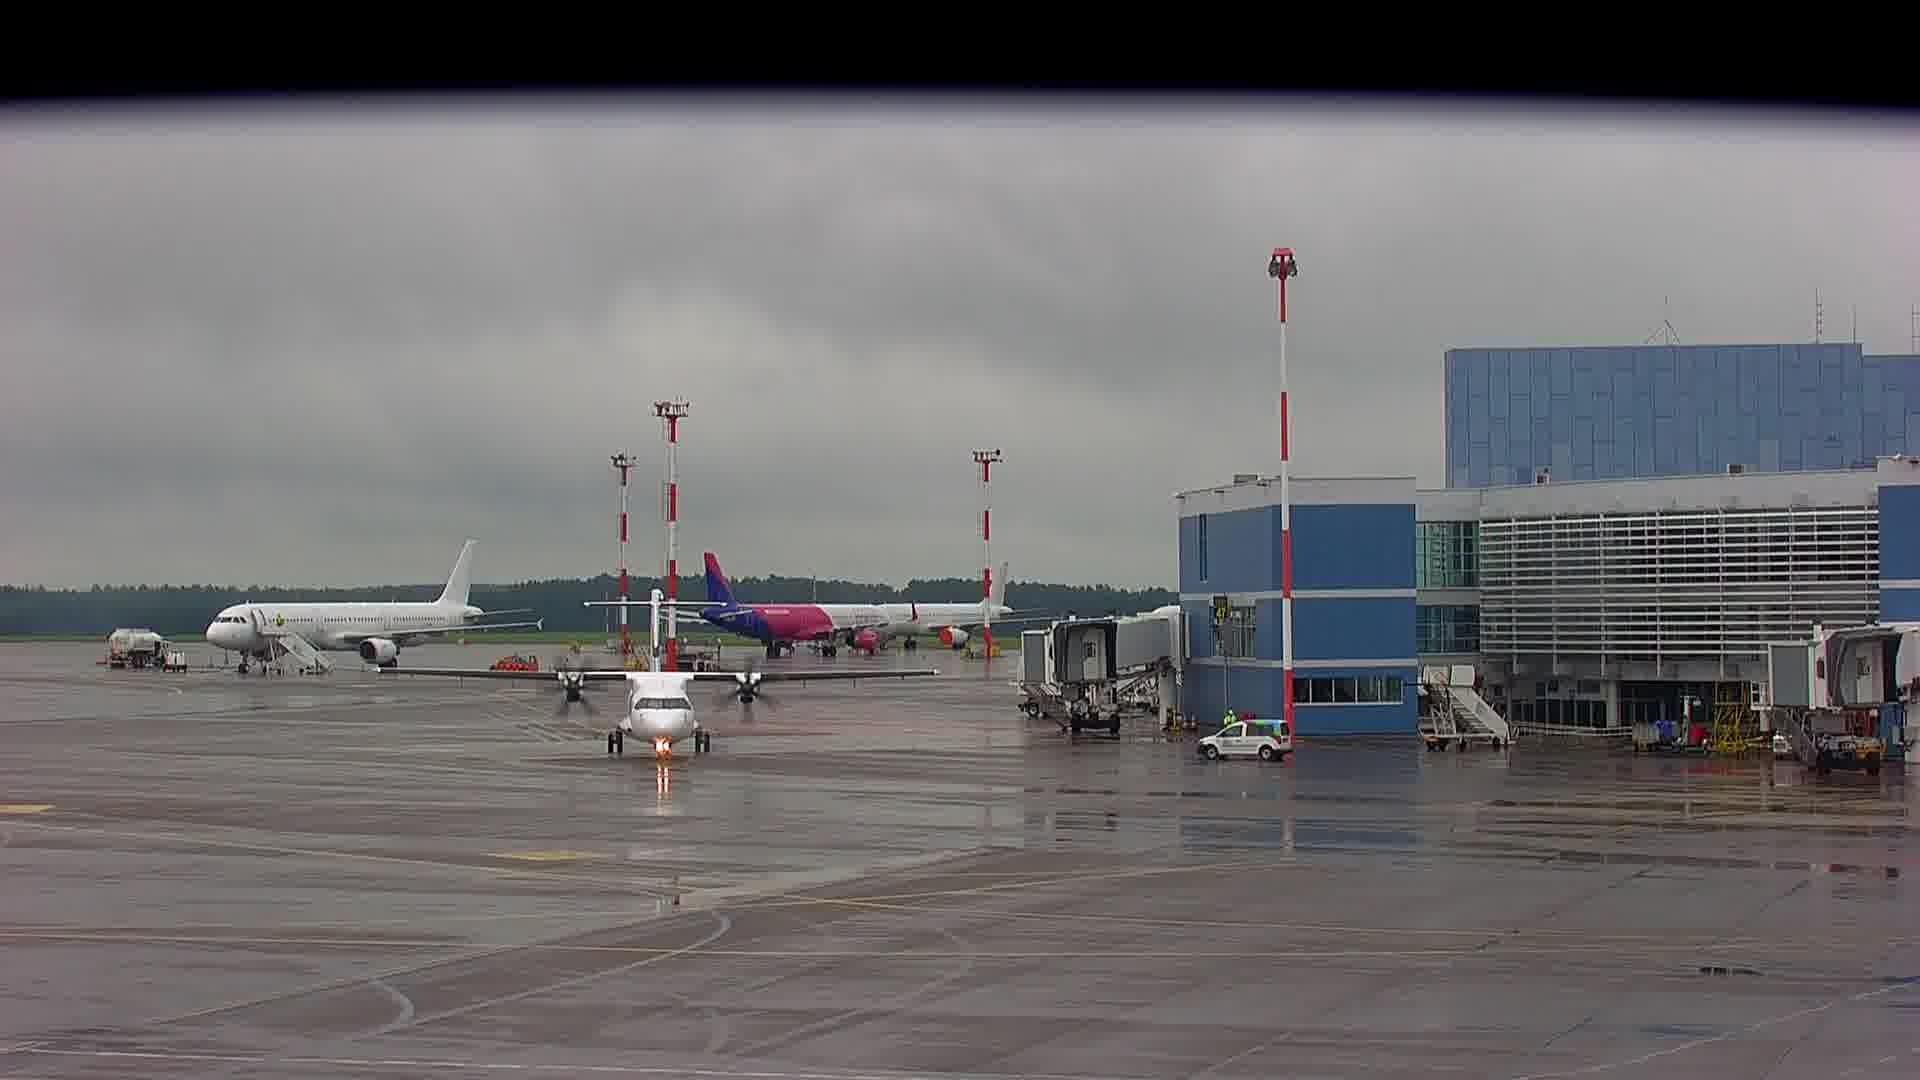Car: (1194, 712, 1293, 759)
Fuel: (89, 622, 164, 671)
Mobile stairs: (1406, 661, 1538, 765)
Plane: (376, 586, 954, 786), (203, 534, 552, 687), (634, 547, 922, 667), (849, 556, 1068, 656)
Worker: (1214, 704, 1234, 731)
